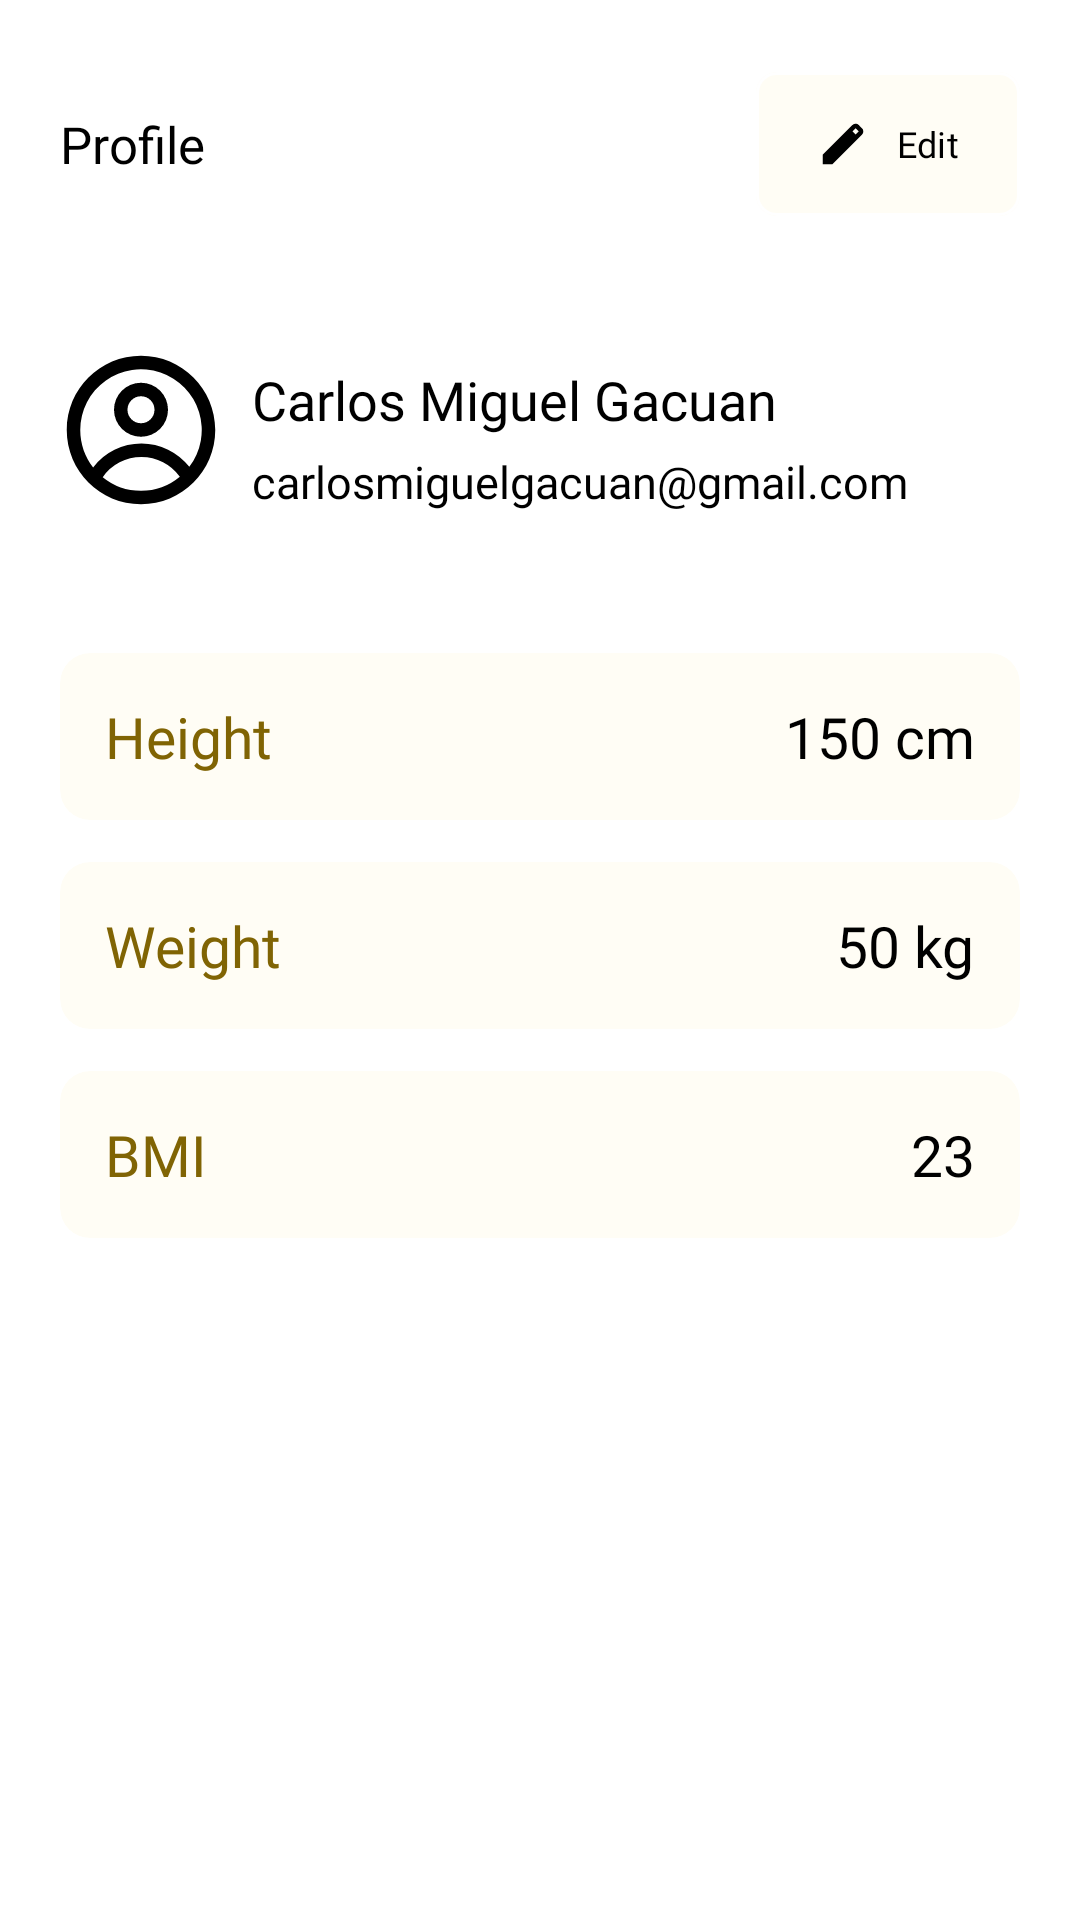

Where icons sit on this 1080×1920 app screen, as (x1, y1, x2, y2):
profile: (66, 355, 216, 505)
